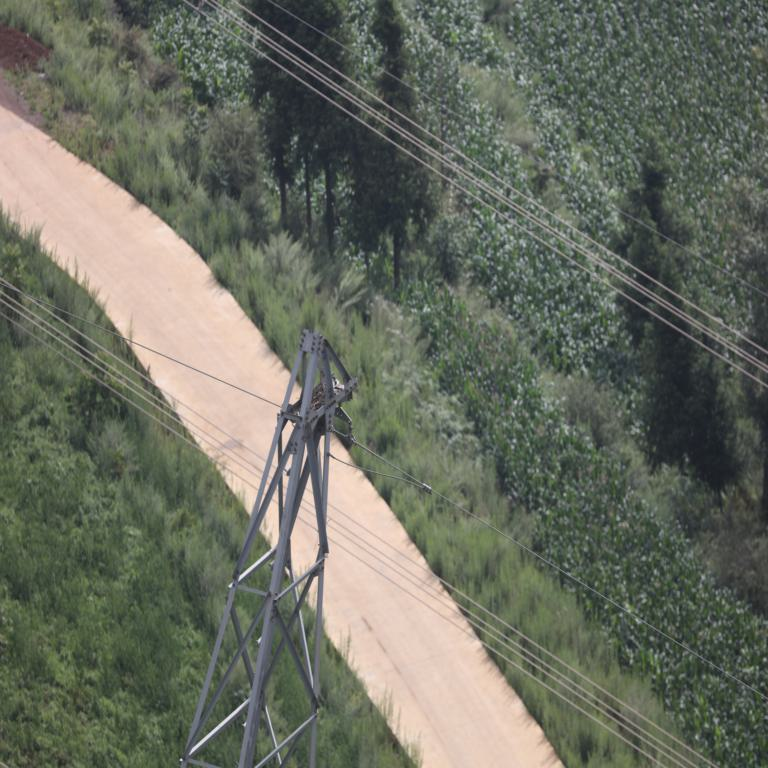nest: (308, 390, 324, 410)
